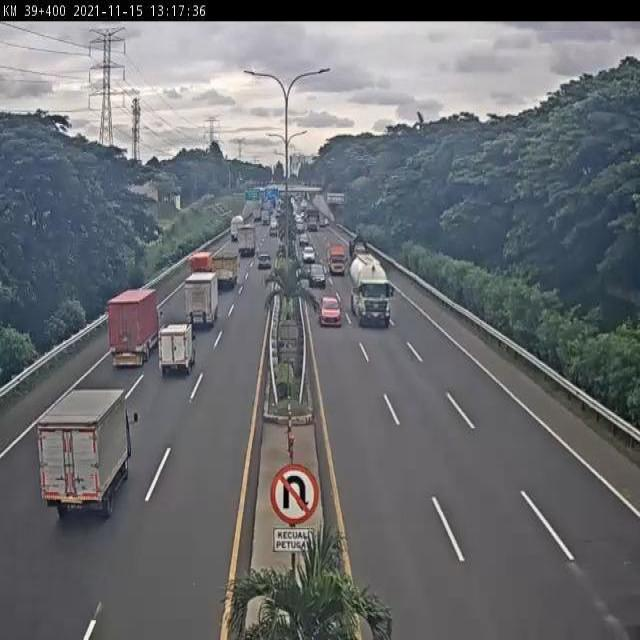ARABA: (318, 294, 345, 326)
KAMYONET: (40, 387, 138, 524), (106, 288, 164, 365), (183, 271, 219, 329), (158, 321, 196, 375), (211, 252, 241, 288)
TIR: (348, 253, 397, 328)
